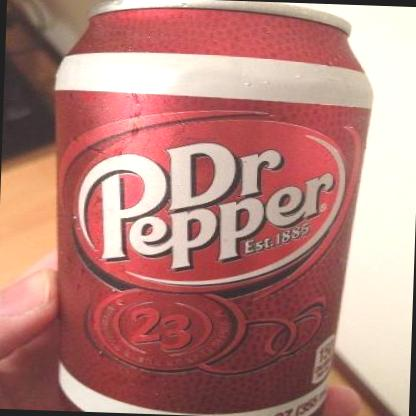alumunium_can: (42, 0, 376, 416)
